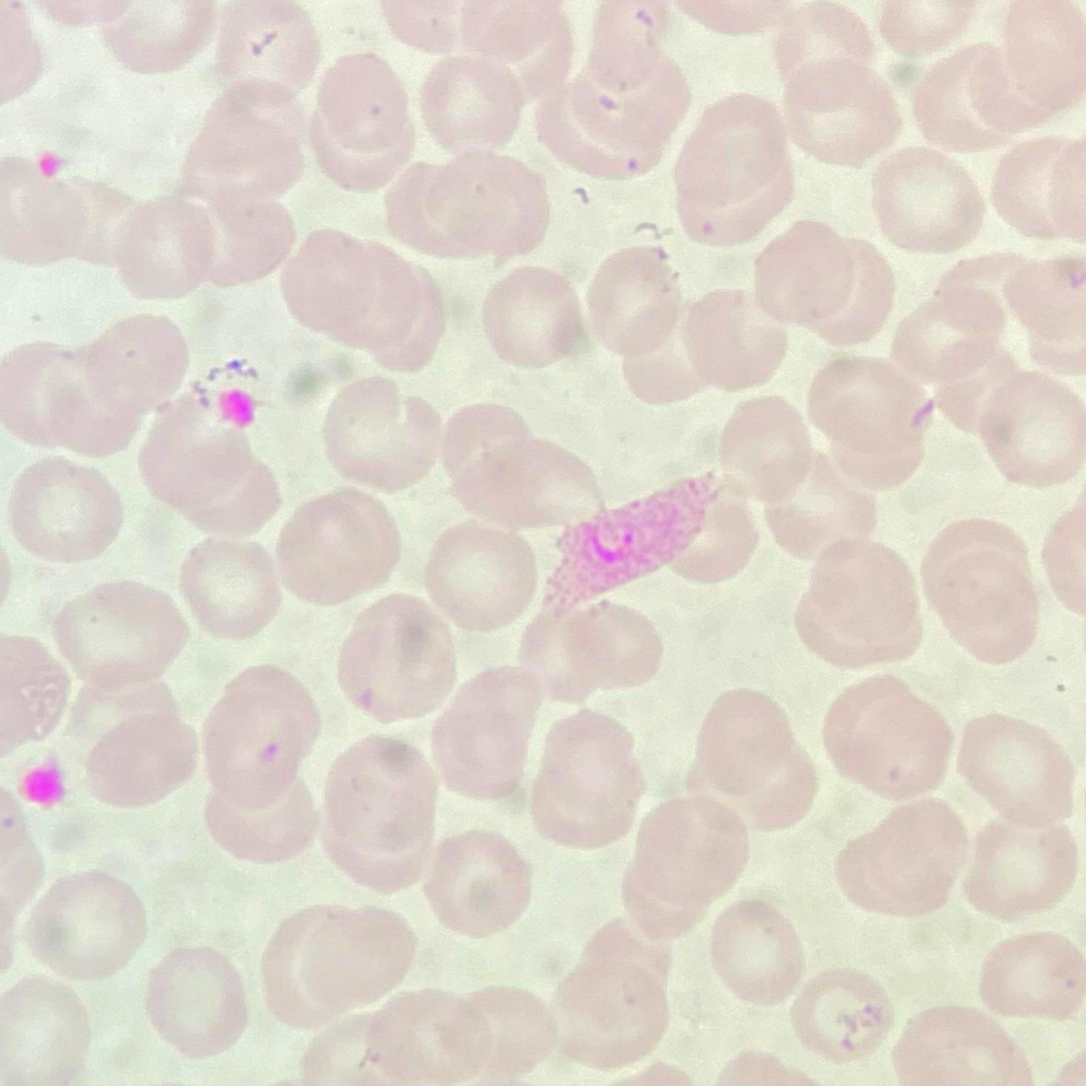Infected: (532, 472, 713, 617)
Uninfected: (139, 401, 284, 537), (445, 411, 604, 535), (263, 900, 417, 1028), (684, 687, 818, 831), (316, 735, 444, 885), (541, 54, 687, 183), (752, 220, 893, 350), (620, 797, 752, 935), (919, 517, 1041, 666), (550, 922, 673, 1069), (671, 98, 793, 245), (200, 668, 321, 811), (795, 536, 924, 670), (2, 339, 144, 460), (804, 358, 933, 490), (404, 148, 549, 264), (822, 675, 951, 804), (183, 84, 312, 212), (836, 795, 970, 917), (52, 578, 192, 694), (522, 713, 643, 847), (274, 489, 404, 608), (340, 595, 457, 727), (321, 375, 448, 495), (521, 596, 660, 704), (895, 270, 1019, 391), (79, 692, 203, 812), (1, 156, 128, 273), (308, 52, 418, 186), (778, 50, 900, 168), (430, 672, 544, 798), (953, 710, 1073, 829), (360, 988, 498, 1084), (758, 454, 880, 562), (77, 312, 191, 426), (975, 370, 1086, 487), (960, 811, 1079, 920), (911, 45, 1028, 155), (6, 455, 121, 566), (681, 286, 793, 397), (25, 876, 146, 977), (422, 524, 536, 631), (115, 194, 230, 300), (177, 189, 297, 290), (869, 146, 982, 253), (582, 245, 685, 361), (424, 831, 532, 939), (713, 394, 815, 507), (416, 55, 529, 157), (987, 0, 1084, 118), (205, 772, 319, 871), (283, 229, 389, 334), (992, 133, 1086, 245), (148, 950, 246, 1057), (178, 538, 282, 638), (994, 254, 1086, 367), (448, 986, 558, 1080), (892, 1006, 1027, 1082), (707, 898, 806, 1001), (485, 264, 582, 367), (790, 968, 890, 1067), (335, 245, 421, 357), (977, 932, 1082, 1022), (214, 1, 319, 91), (1, 975, 88, 1079), (656, 494, 754, 586), (2, 632, 71, 758), (463, 1, 570, 78), (586, 1, 675, 93), (103, 1, 213, 75), (776, 2, 878, 79), (377, 260, 442, 370), (620, 330, 706, 407), (383, 2, 474, 54)
